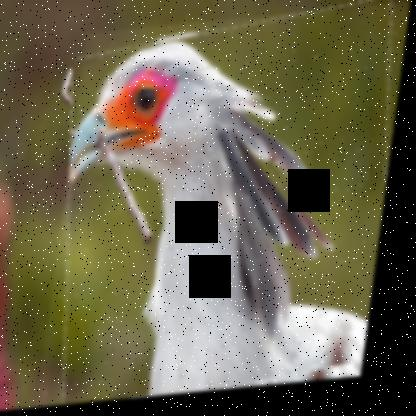Sagittarius serpentarius: (47, 10, 412, 408)
